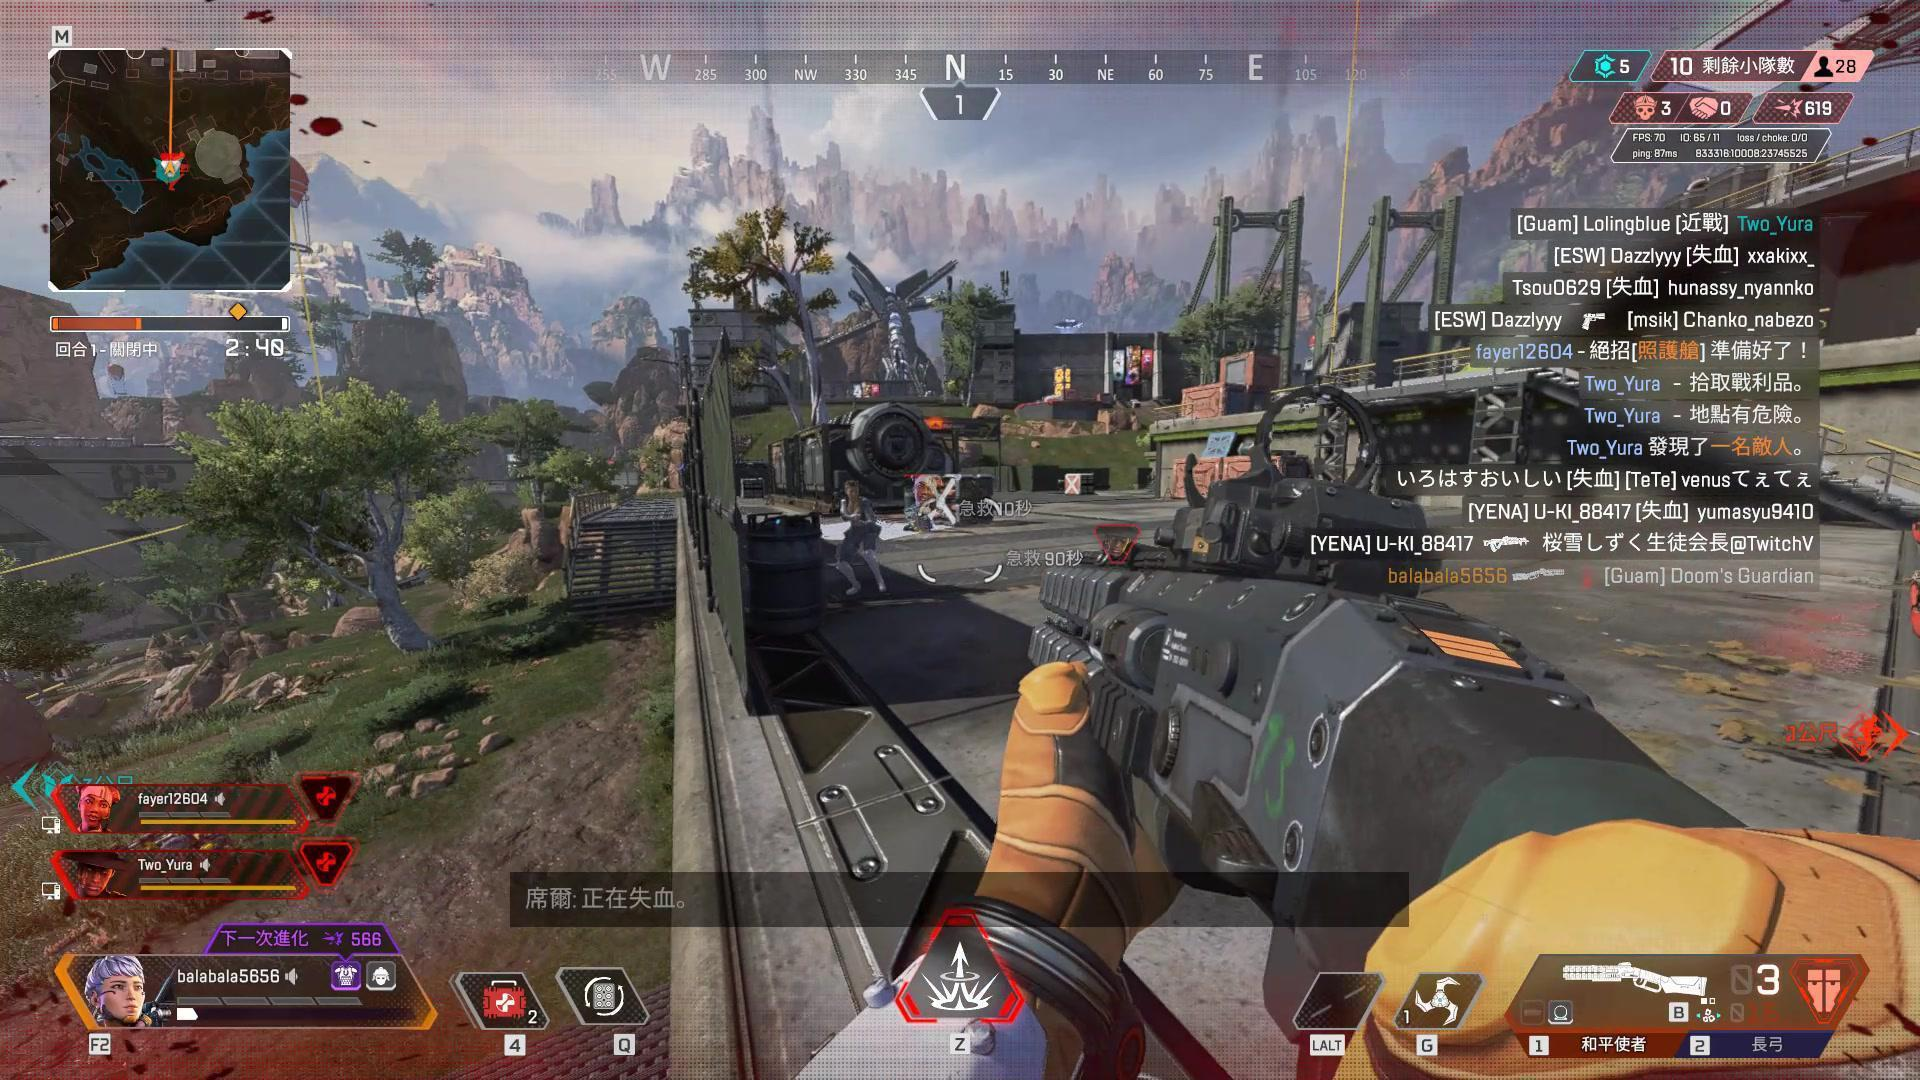avatar: (835, 481, 890, 601)
